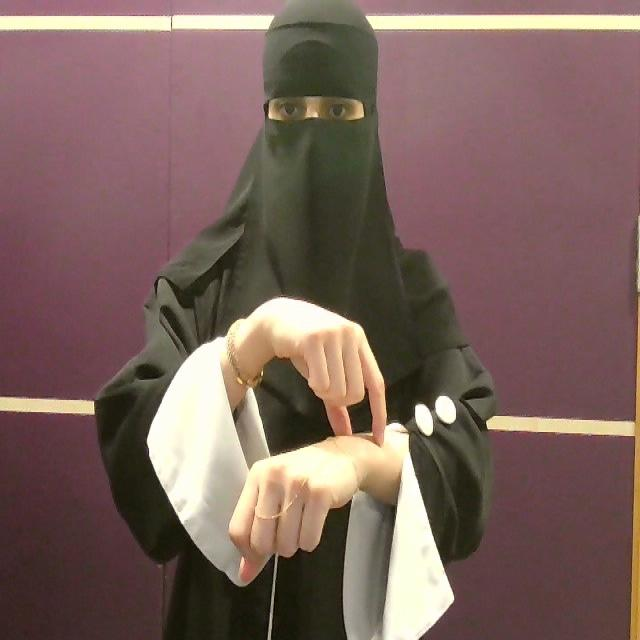appointment: (235, 280, 418, 586)
